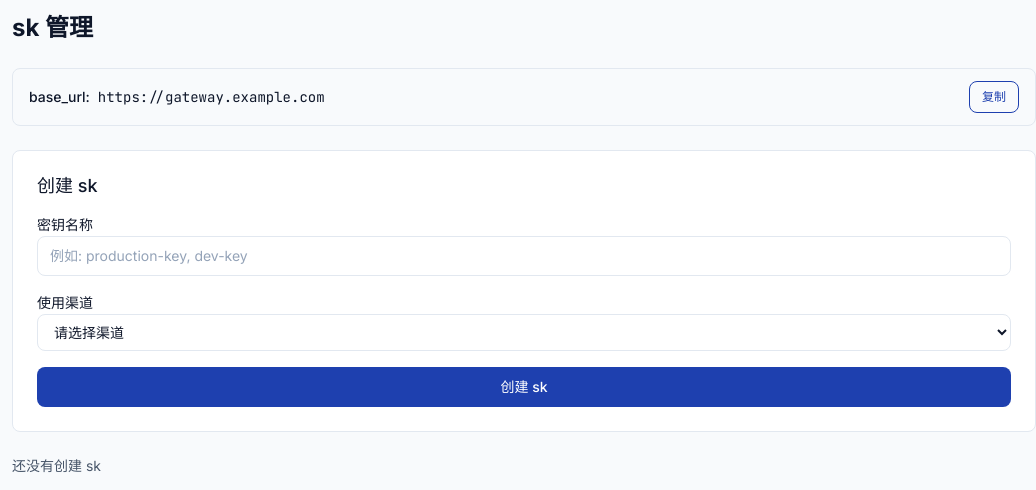
Test: KeysPage - baseUrl display › shows success toast and flips button text on successful copy
Check: the text "https://gateway.example.com" is shown, box [98,87,325,107]
Click the button "复制" at (994, 97), box [969,81,1019,113]
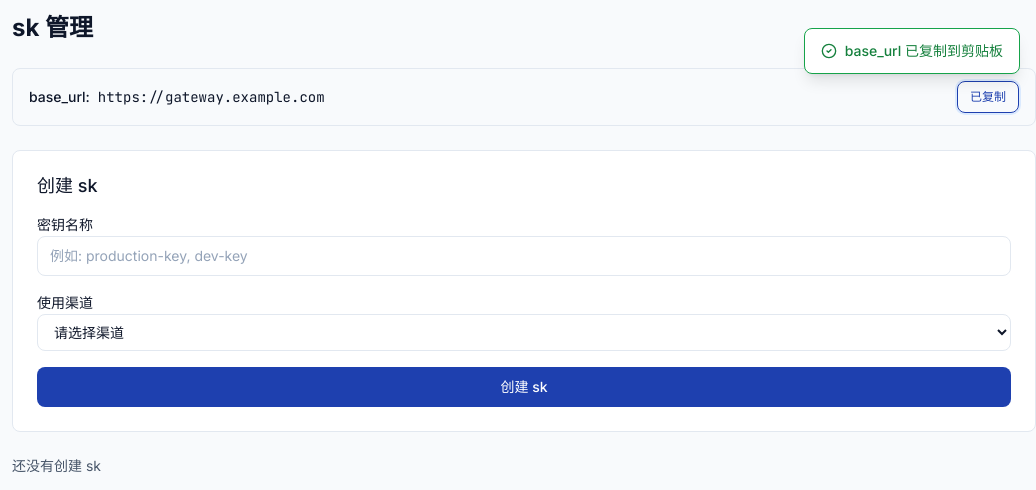
Check: the text "base_url 已复制到剪贴板" is shown, box [845,41,1003,61]
Check: the button "已复制" is shown, box [957,81,1019,113]
